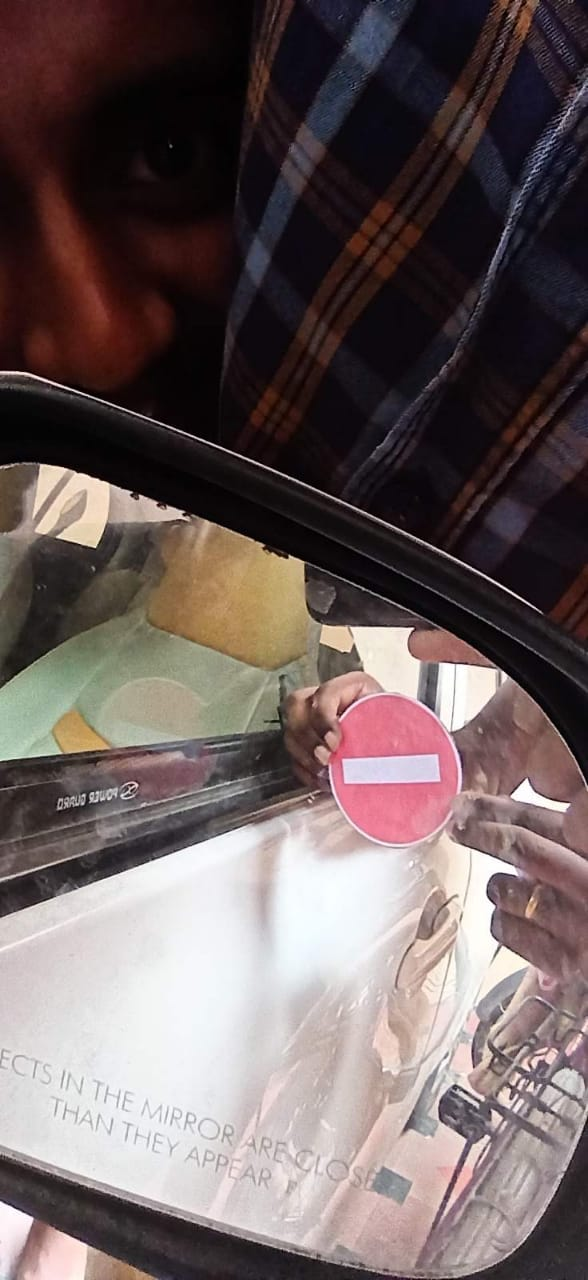NO ENTRY: (309, 681, 477, 854)
